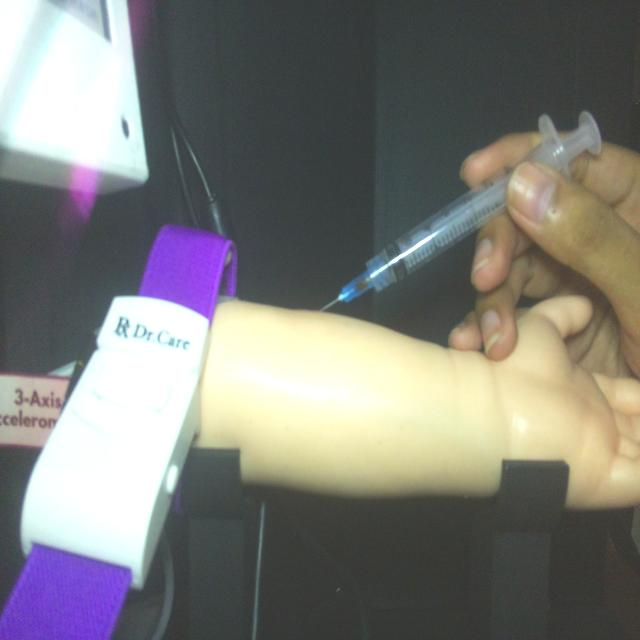24 degrees: (318, 107, 603, 314)
